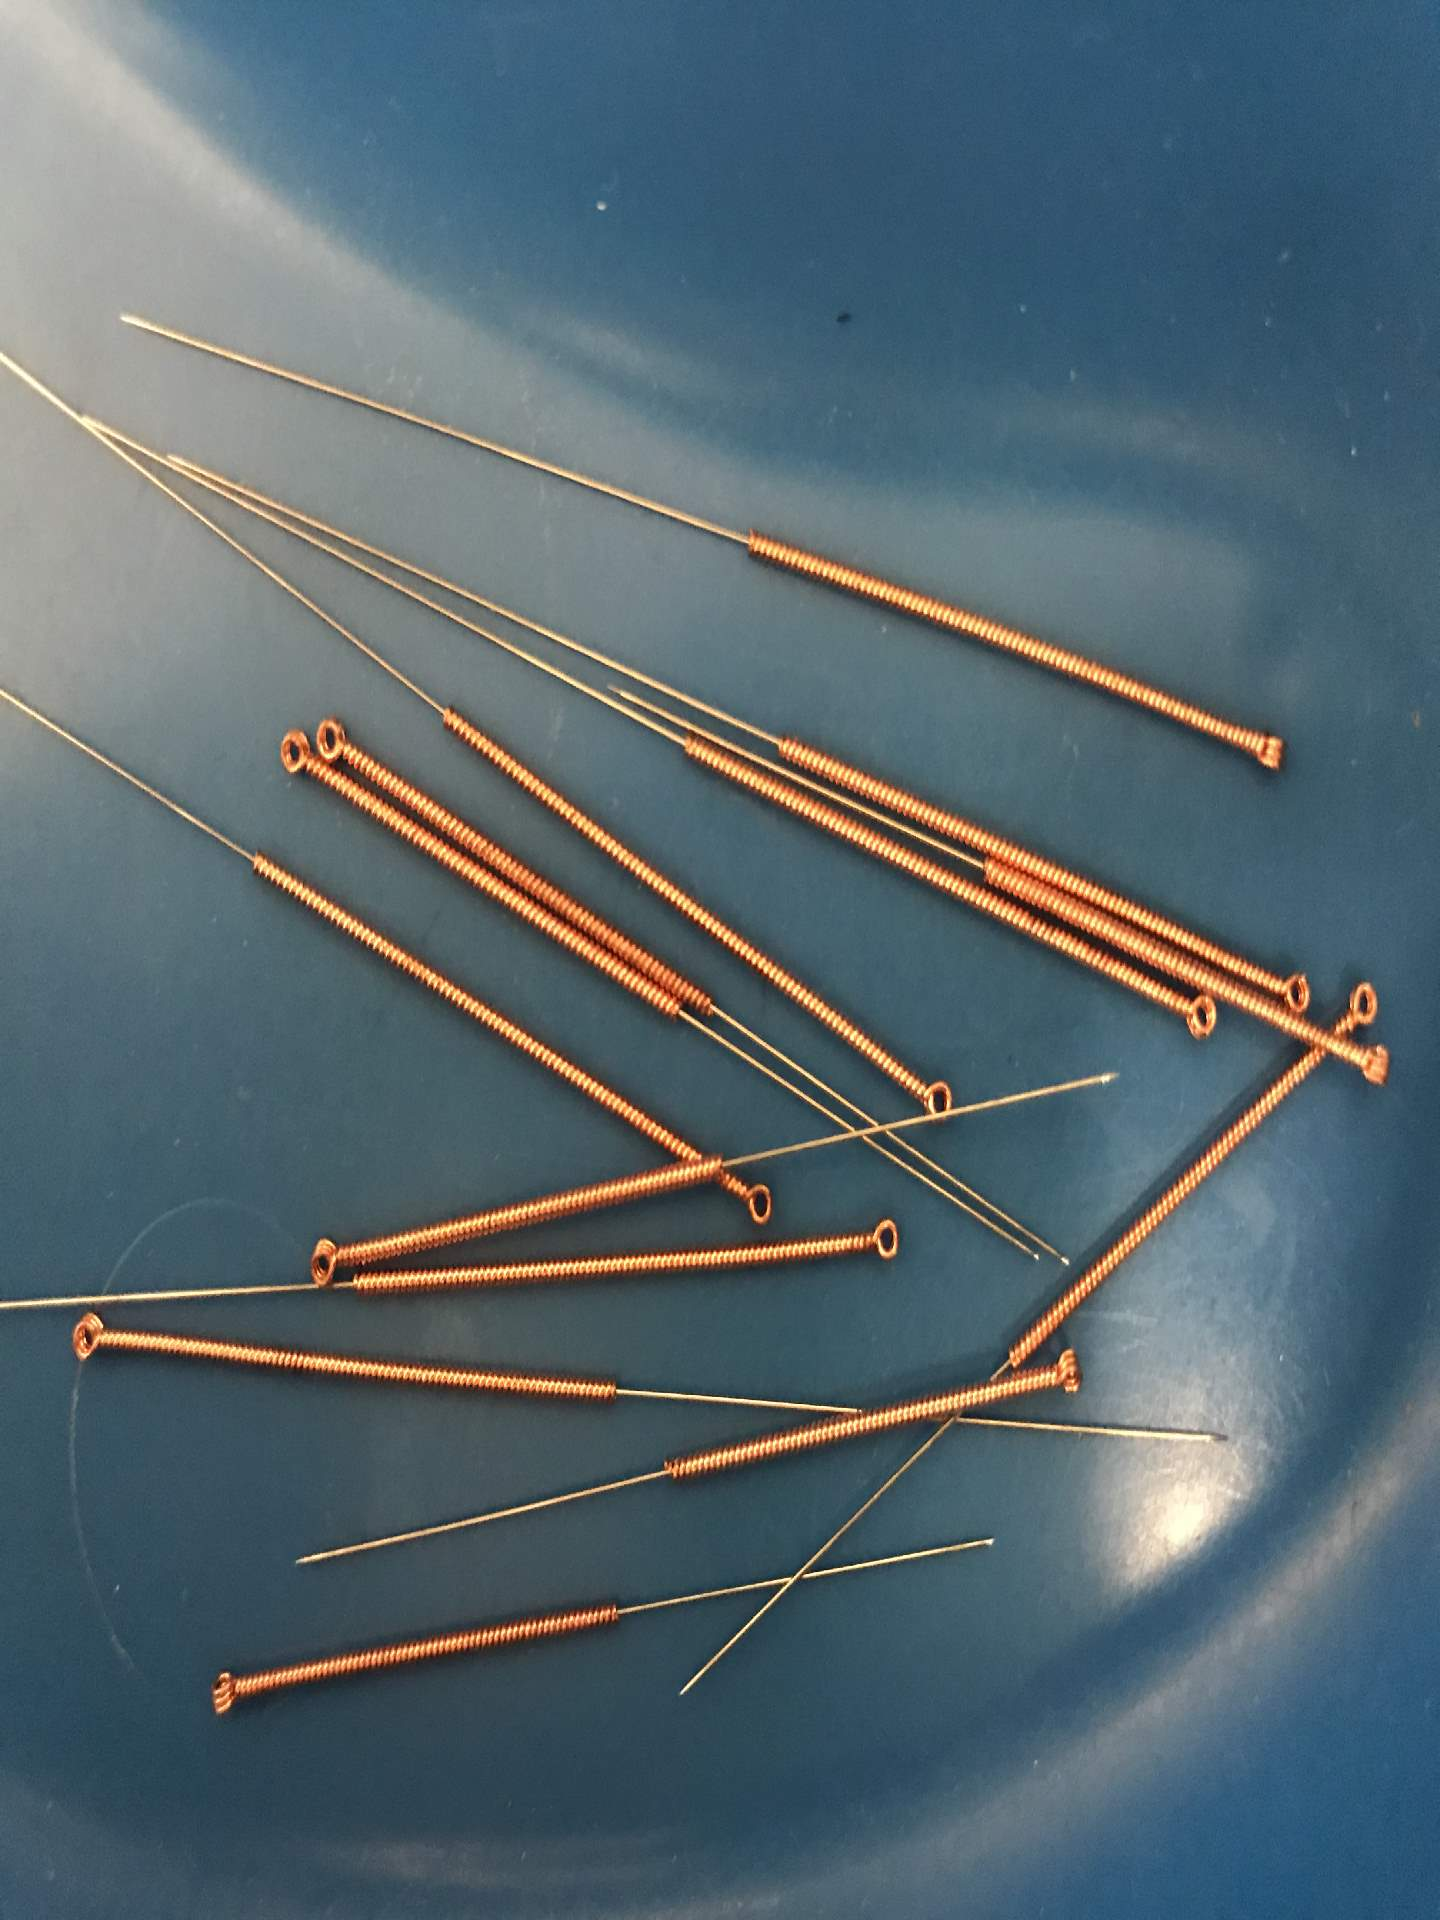needle: (1330, 1027, 1407, 1101), (1325, 958, 1390, 1042), (1234, 706, 1296, 791), (194, 1655, 260, 1734), (54, 1303, 119, 1379), (852, 1203, 911, 1277), (903, 1066, 967, 1132), (263, 714, 313, 791), (726, 1169, 784, 1235), (1039, 1336, 1094, 1406), (299, 1225, 349, 1300), (1168, 980, 1221, 1051), (1263, 955, 1321, 1016), (315, 700, 362, 770)
